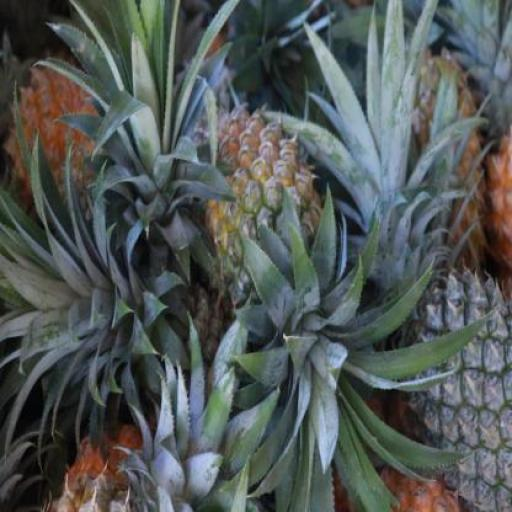------------------------------: (198, 103, 336, 313)
